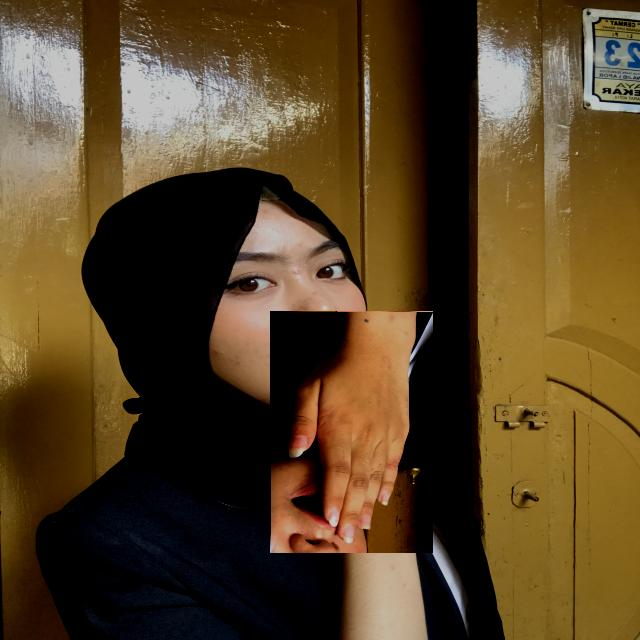ngantuk: (270, 311, 433, 553)
